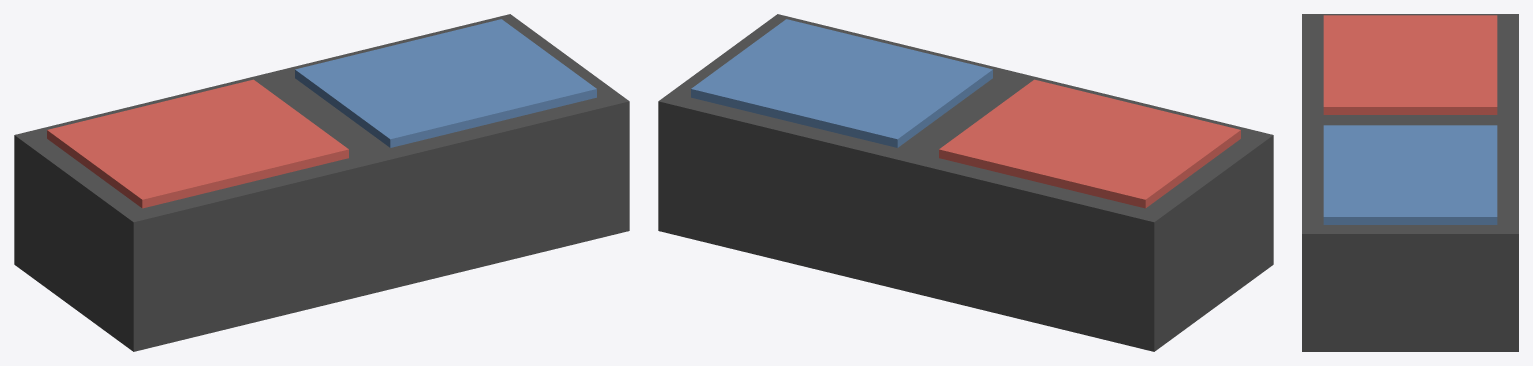
Rendered from siren_lightbar.glb.
3 renders of one model, left to right at view 1: azimuth 30°, elevation 25°; view 2: azimuth 150°, elevation 25°; view 3: azimuth 270°, elevation 25°, orthographic. The views are drawn at different scales.
Visible parts, largest first — view 1: bar, blue, red; view 2: bar, blue, red; view 3: bar, blue, red.
Boxes of the visible parts, x1,y1,x2,y2 form: bar: (14, 14, 629, 351); blue: (295, 19, 596, 147); red: (47, 79, 348, 208); bar: (658, 14, 1273, 351); blue: (691, 19, 992, 147); red: (939, 79, 1240, 208); bar: (1302, 14, 1518, 351); blue: (1323, 125, 1497, 224); red: (1323, 15, 1497, 114).
Bounding box in the file's own units: 1.2 × 0.32 × 0.5.
